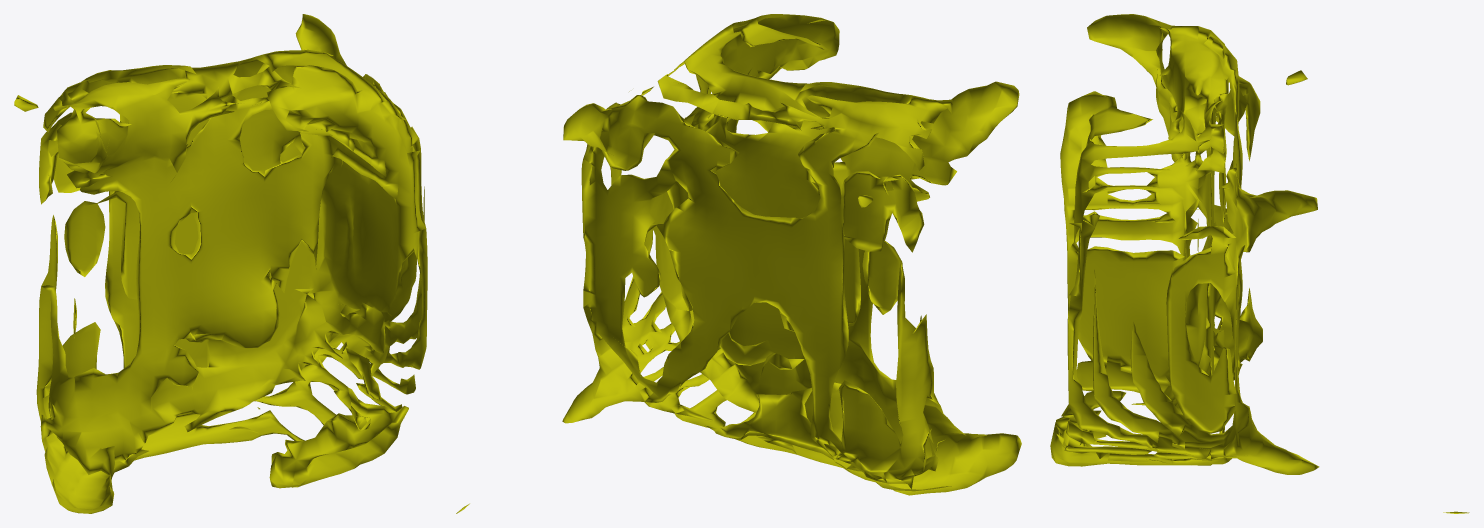
The picture shows the model from 3 angles, left to right: view 1: azimuth 30°, elevation 25°; view 2: azimuth 150°, elevation 25°; view 3: azimuth 270°, elevation 25°; orthographic projection. The views are drawn at different scales.
Visible parts, largest first — view 1: world; view 2: world; view 3: world.
Boxes of the visible parts, x1,y1,x2,y2 form: world: (14, 14, 427, 513); world: (456, 14, 1021, 513); world: (1050, 14, 1469, 513).
Size of the model in its own units: 30.41 by 31.35 by 32.52.
